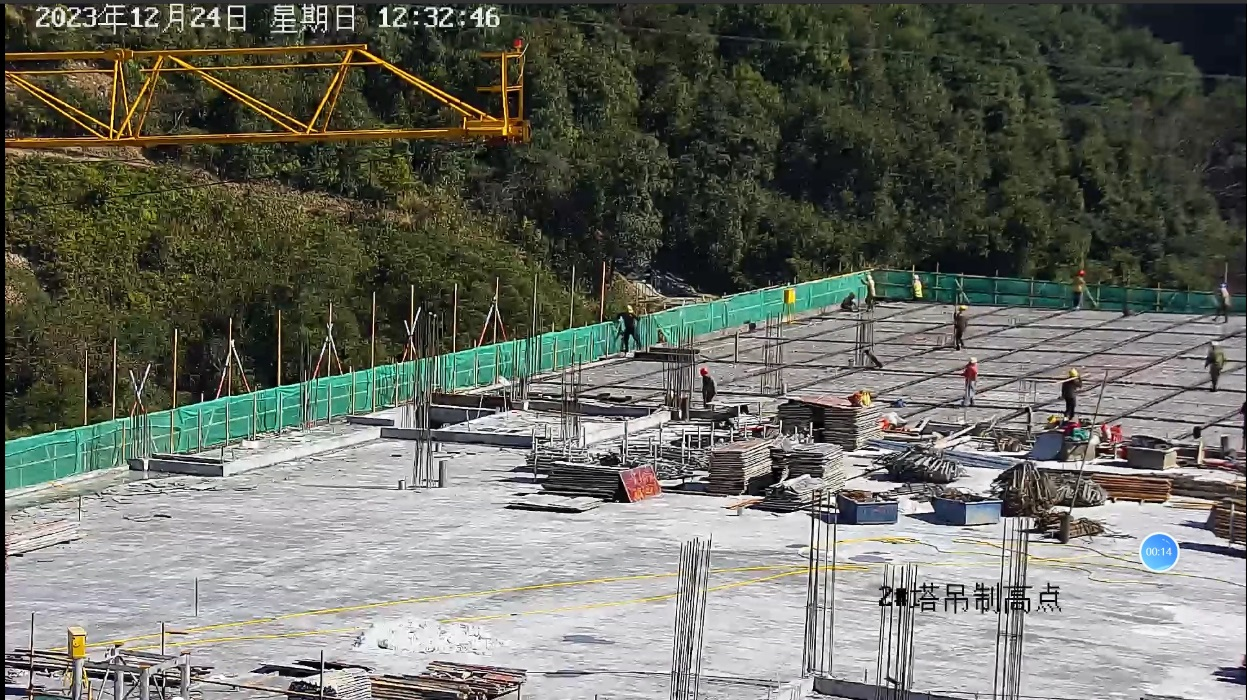person: (612, 303, 642, 350), (1203, 338, 1226, 392), (1058, 367, 1082, 418), (1213, 281, 1231, 325), (858, 272, 877, 311), (953, 304, 969, 350), (962, 357, 978, 403), (699, 367, 716, 407), (1070, 266, 1086, 307), (908, 272, 923, 303), (839, 291, 859, 311)
